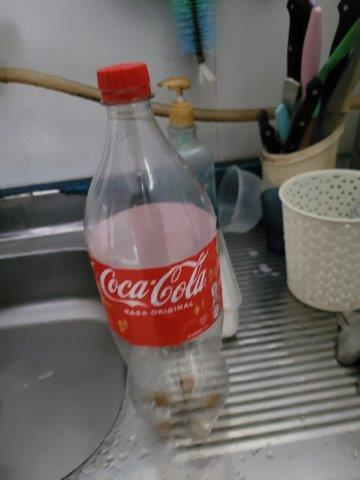botolplastik: (83, 65, 226, 431)
